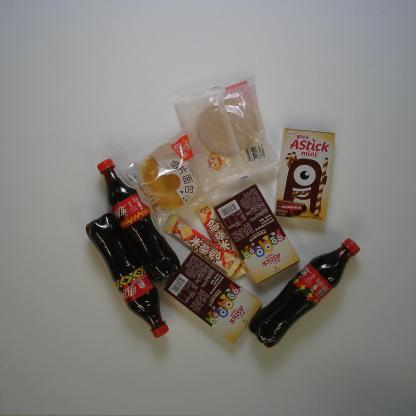Chocolate: (162, 212, 241, 280), (193, 196, 251, 283)
Dessert: (172, 75, 283, 194), (112, 128, 220, 232), (161, 250, 264, 346), (213, 182, 302, 287), (272, 126, 337, 224)
Drink: (246, 234, 363, 350), (81, 212, 171, 340), (96, 157, 181, 281)
